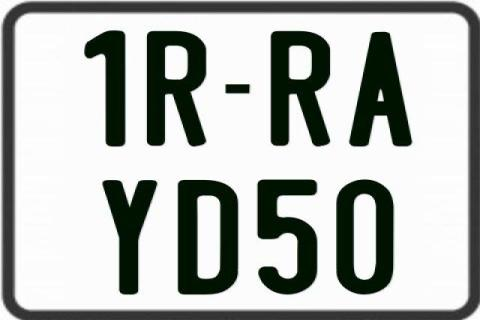0: (333, 179, 394, 299), (257, 178, 317, 294), (83, 28, 127, 148)
A: (349, 31, 417, 145)
D: (175, 180, 240, 296)
R: (271, 29, 335, 149), (144, 31, 204, 150)
Y: (103, 179, 158, 296)
